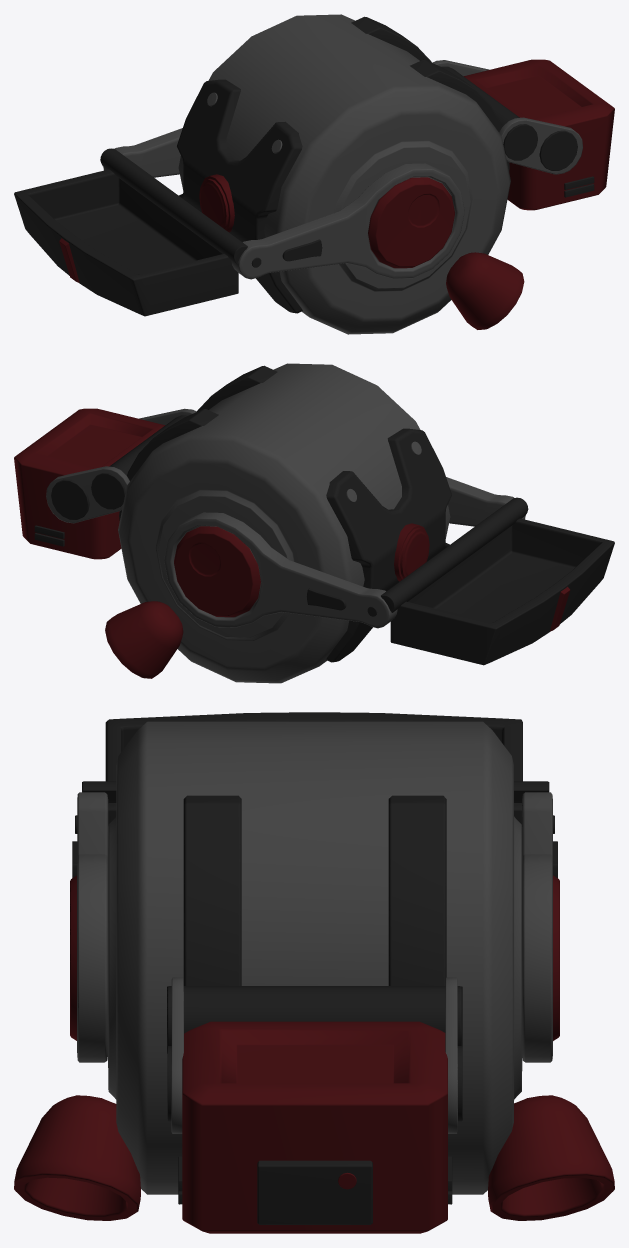
File: colony_Drone_carrier.glb
3 renders of one model, top to bottom at view 1: azimuth 30°, elevation 25°; view 2: azimuth 150°, elevation 25°; view 3: azimuth 270°, elevation 25°, orthographic. The views are drawn at different scales.
Visible parts, largest first — view 1: Drone_carrier; view 2: Drone_carrier; view 3: Drone_carrier.
Part boxes in pixels (x1,y1,x2,y2): Drone_carrier: [14, 14, 614, 334]; Drone_carrier: [14, 363, 614, 683]; Drone_carrier: [14, 712, 614, 1233].
Bounding box in the file's own units: 456 × 206 × 261.
1 material, 1 textured.
